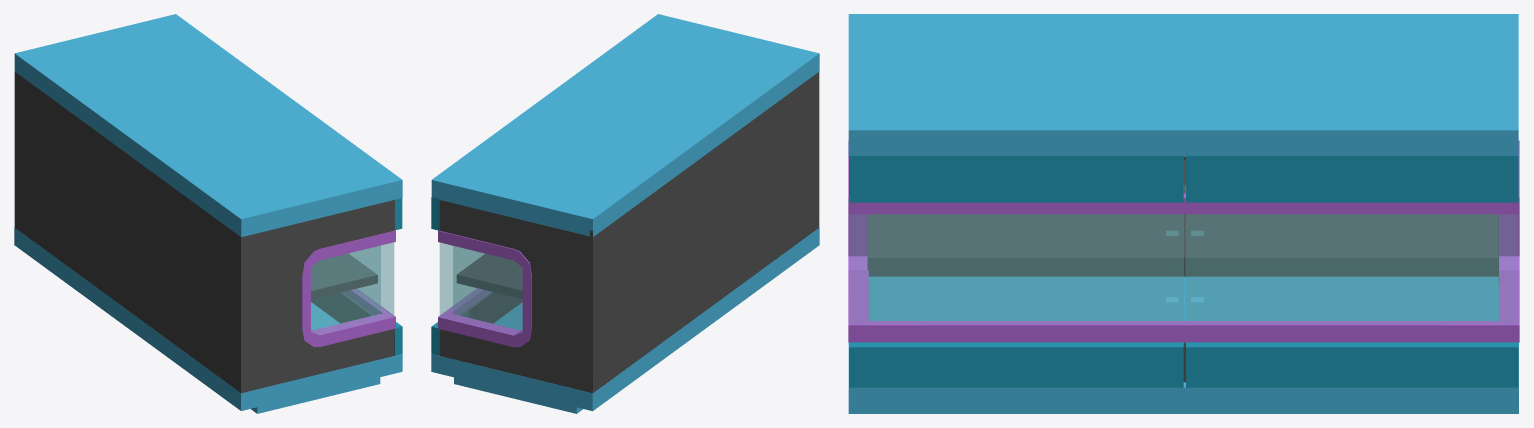
File: dresser_tier16.fbx
3 views of the same model, side by side, from view 1: azimuth 30°, elevation 25°; view 2: azimuth 150°, elevation 25°; view 3: azimuth 270°, elevation 25° (orthographic). The views are drawn at different scales.
Visible parts, largest first — view 1: Cube.003; view 2: Cube.003; view 3: Cube.003.
Boxes of the visible parts, left/top/right/bottom form: Cube.003: left=14, top=14, right=402, bottom=413; Cube.003: left=431, top=14, right=819, bottom=413; Cube.003: left=848, top=14, right=1519, bottom=413.
Size of the model in its own units: 89.29 by 106 by 218.
